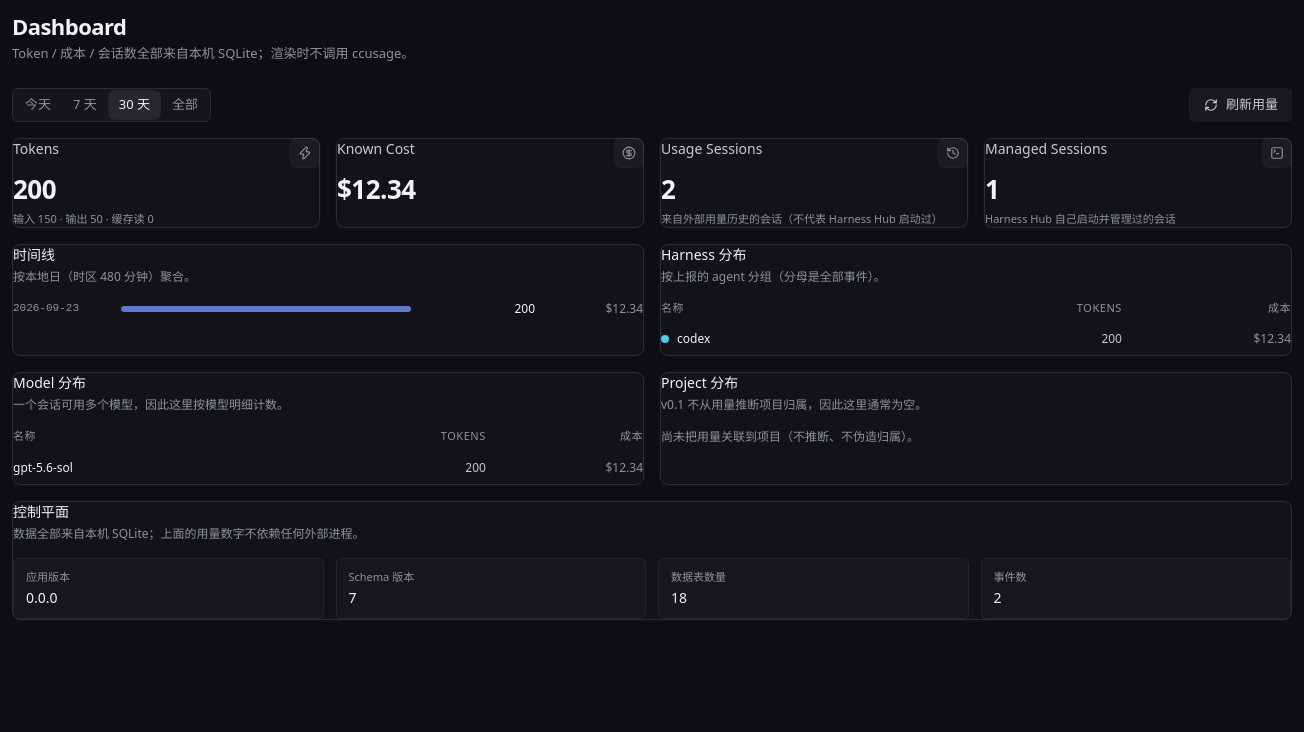
Test: DashboardPage › 刷新失败时显示错误且不清零已有数字
Expected: the element with test id "kpi-tokens" is shown, [12, 138, 320, 228]
Click the button "刷新用量".
click(1241, 104)  # box [1190, 88, 1292, 120]
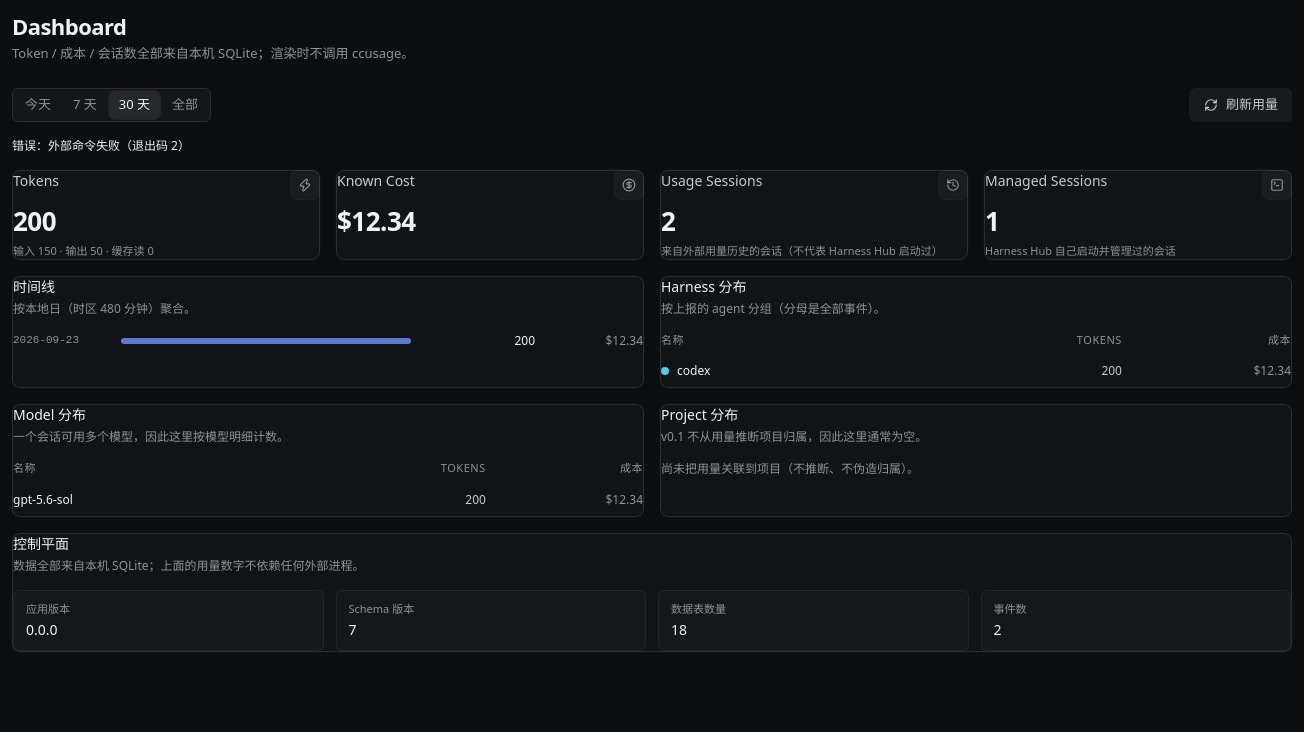
Expected: the element with test id "kpi-tokens" shows "200", [13, 202, 56, 238]
Result: the message shows "退出码 2" at [12, 136, 190, 154]
